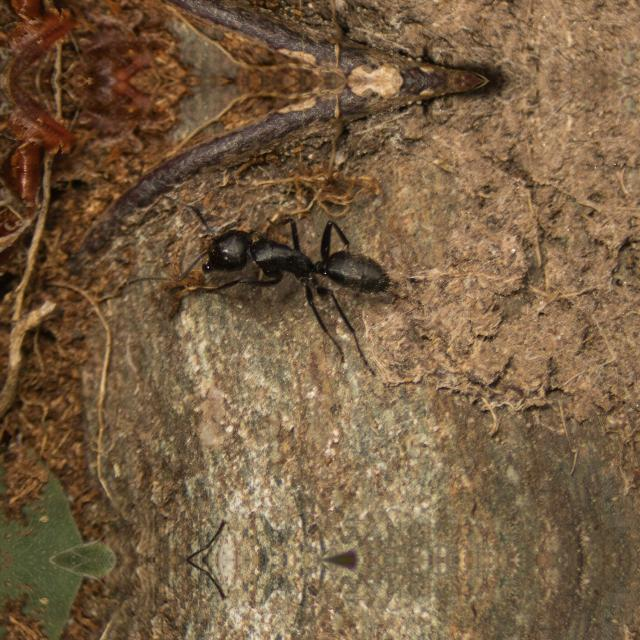Camponotus: (157, 200, 421, 328)
